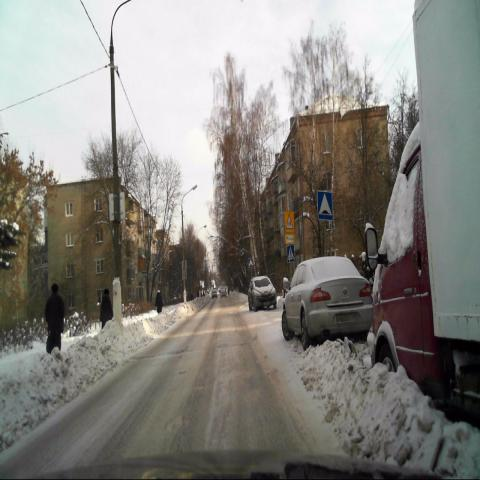5_20: (317, 189, 333, 220)
